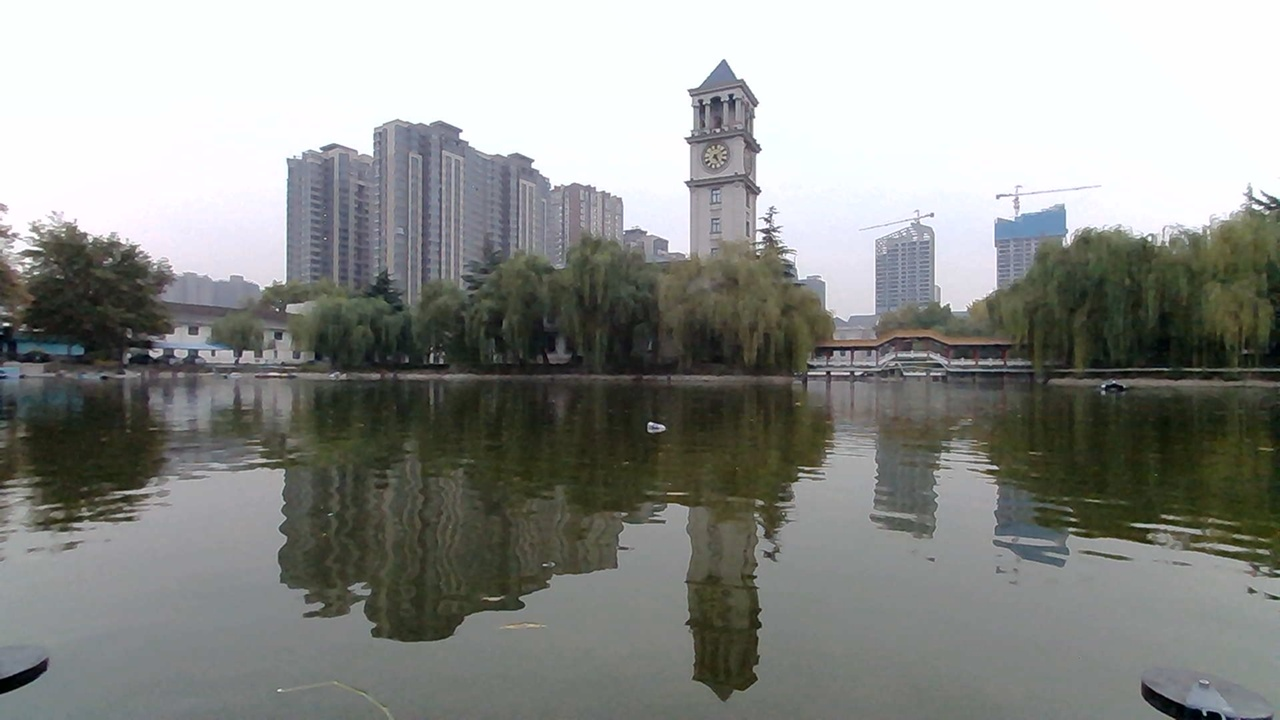bottle: (642, 408, 694, 446)
